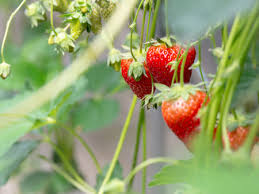ripe: (162, 94, 225, 160), (146, 39, 200, 92), (121, 51, 160, 98), (227, 115, 255, 159)
unripe: (46, 27, 75, 53), (67, 12, 88, 40), (94, 1, 114, 23), (108, 49, 122, 74), (1, 59, 12, 81)
